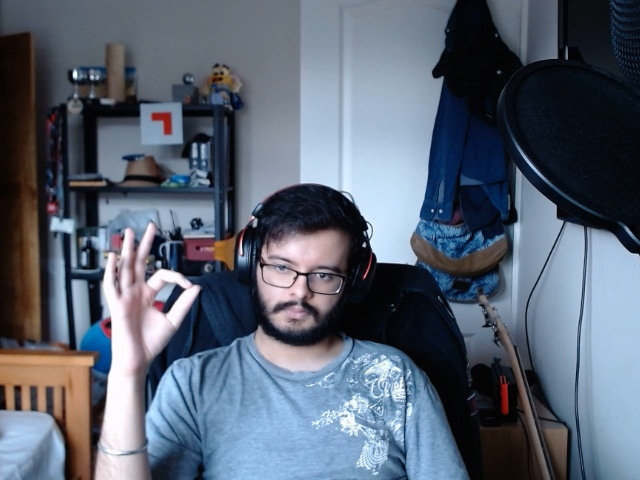Okay: (75, 213, 211, 381)
